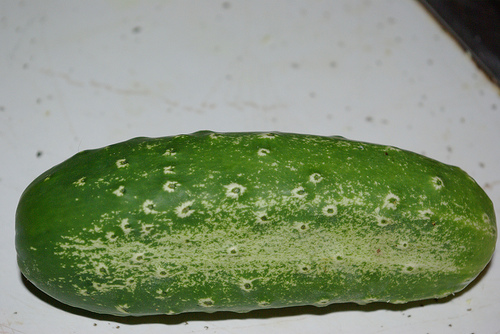cucumber: (13, 129, 498, 319)
